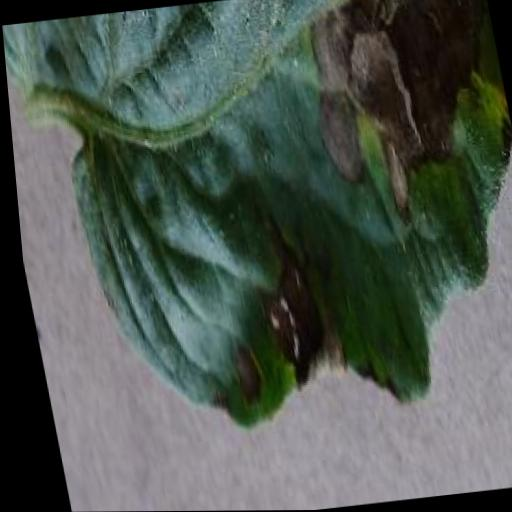Early Blight: (0, 0, 512, 449)
